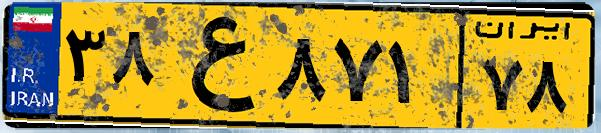1: (385, 28, 445, 110)
3: (57, 26, 110, 100)
7: (330, 28, 385, 110), (475, 38, 525, 113)
8: (270, 28, 330, 110), (525, 38, 570, 115), (110, 28, 158, 98)
ع: (158, 12, 270, 120)
